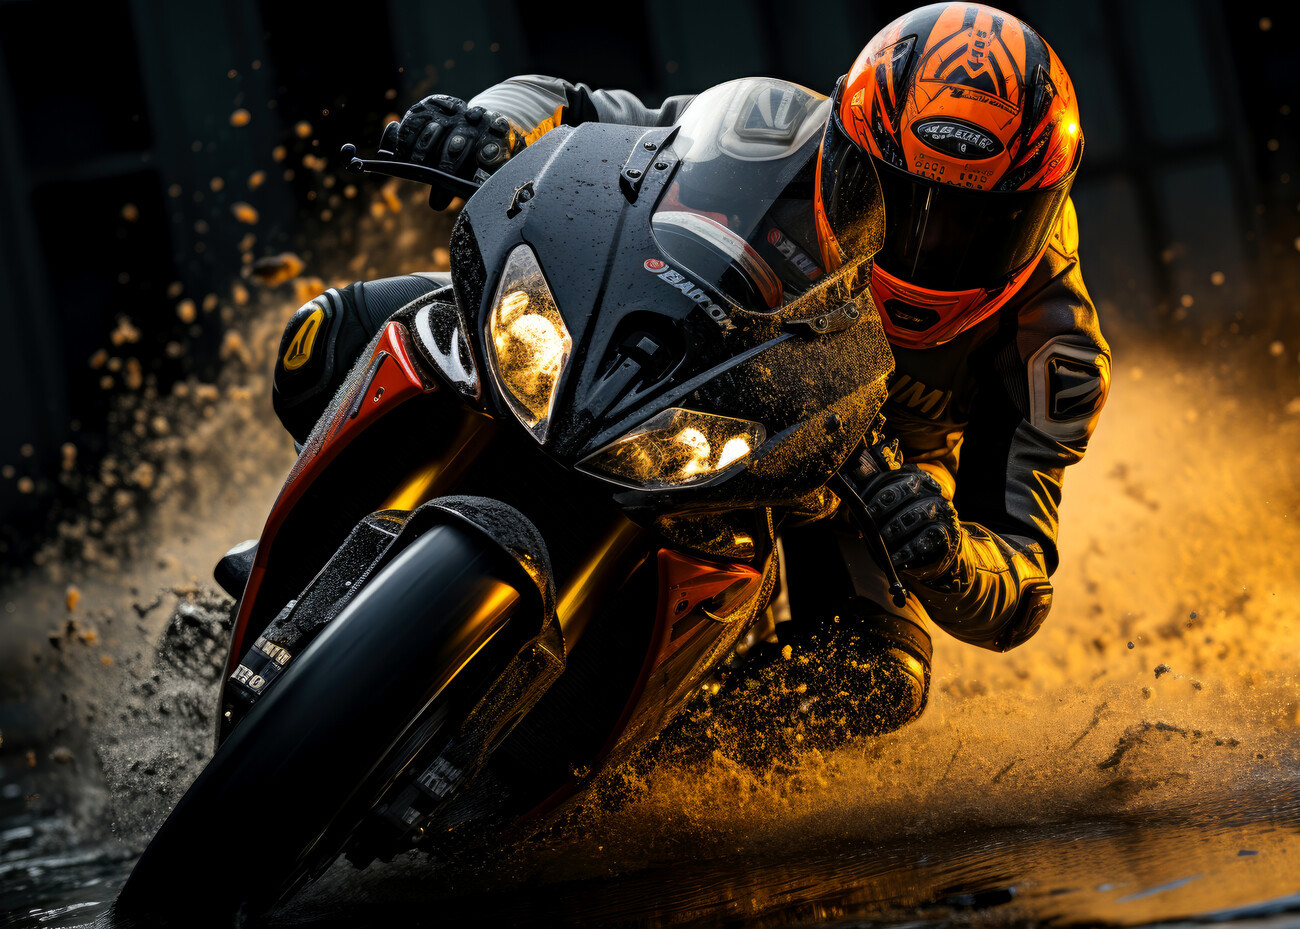bike: (105, 79, 906, 929)
